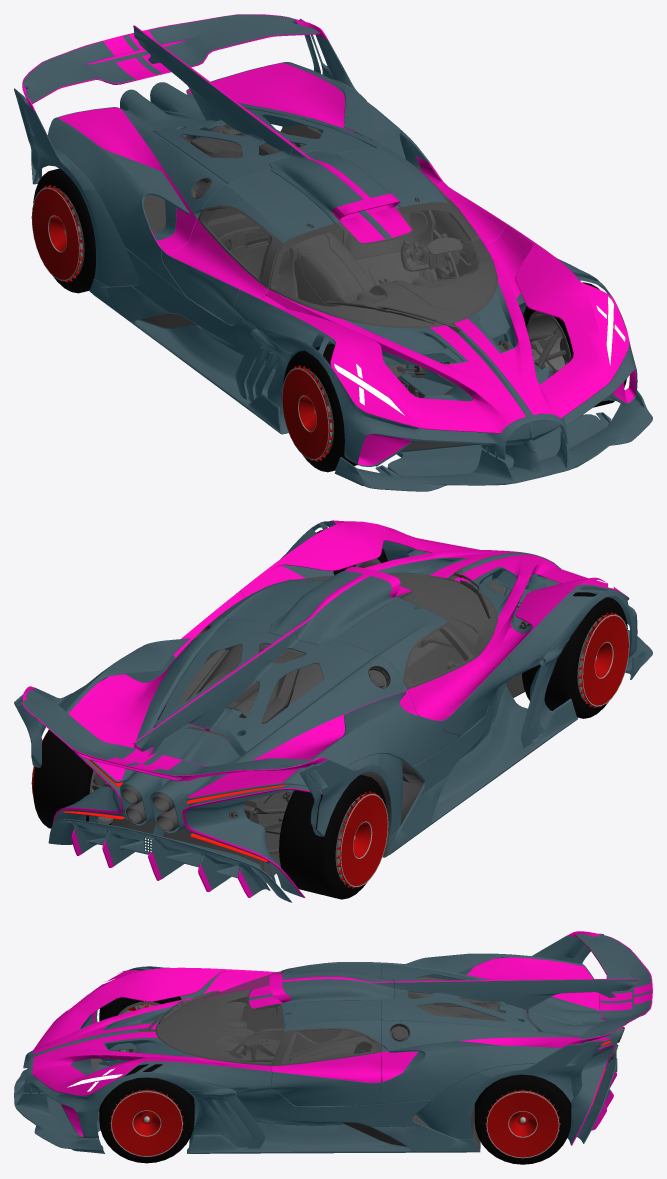
The model's file is bugatti_bolide_free_3d___low_poly_-_low_details.glb.
3 renders of one model, top to bottom at view 1: azimuth 30°, elevation 25°; view 2: azimuth 150°, elevation 25°; view 3: azimuth 270°, elevation 25°, orthographic. The views are drawn at different scales.
Parts seen in each view (by area): view 1: model_0, model_1, model_11, model_12, model_8, model_2, model_10, model_7, model_3, model_5, model_9; view 2: model_0, model_1, model_10, model_2, model_8, model_11, model_12, model_3, model_7, model_9, model_6; view 3: model_0, model_1, model_12, model_11, model_8, model_10, model_2, model_3, model_9, model_5, model_7.
Part boxes in pixels (x1=…): model_0: x1=14, y1=14, x2=652, y2=491; model_1: x1=22, y1=14, x2=636, y2=465; model_11: x1=200, y1=202, x2=496, y2=326; model_12: x1=200, y1=172, x2=496, y2=326; model_8: x1=32, y1=184, x2=333, y2=461; model_2: x1=183, y1=124, x2=569, y2=414; model_10: x1=33, y1=126, x2=626, y2=472; model_7: x1=55, y1=188, x2=571, y2=457; model_3: x1=140, y1=88, x2=604, y2=476; model_5: x1=334, y1=296, x2=625, y2=415; model_9: x1=31, y1=187, x2=329, y2=459; model_0: x1=14, y1=521, x2=652, y2=902; model_1: x1=22, y1=520, x2=629, y2=897; model_10: x1=33, y1=530, x2=627, y2=899; model_2: x1=92, y1=569, x2=587, y2=853; model_8: x1=32, y1=612, x2=628, y2=888; model_11: x1=211, y1=574, x2=496, y2=735; model_12: x1=296, y1=574, x2=496, y2=686; model_3: x1=111, y1=580, x2=523, y2=877; model_7: x1=89, y1=558, x2=605, y2=884; model_9: x1=31, y1=614, x2=629, y2=887; model_6: x1=63, y1=759, x2=285, y2=861; model_0: x1=14, y1=933, x2=651, y2=1153; model_1: x1=32, y1=931, x2=652, y2=1145; model_12: x1=157, y1=970, x2=378, y2=1063; model_11: x1=157, y1=971, x2=381, y2=1106; model_8: x1=109, y1=1004, x2=560, y2=1157; model_10: x1=99, y1=996, x2=571, y2=1164; model_2: x1=99, y1=970, x2=624, y2=1111; model_3: x1=72, y1=1001, x2=538, y2=1151; model_9: x1=111, y1=1091, x2=559, y2=1158; model_5: x1=67, y1=972, x2=122, y2=1091; model_7: x1=118, y1=1001, x2=551, y2=1103.
Bounding box in the file's own units: 1.92 × 1.03 × 4.47.
